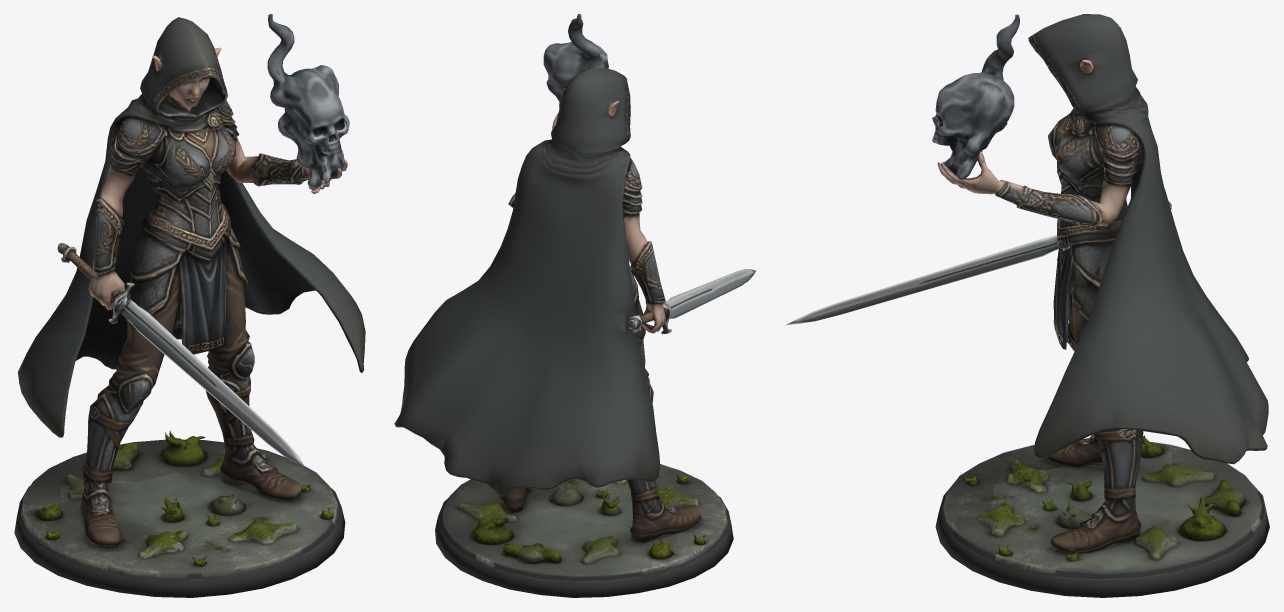
Rendered from nightblade_def_female.glb.
3 views of the same model, side by side, from view 1: azimuth 30°, elevation 25°; view 2: azimuth 150°, elevation 25°; view 3: azimuth 270°, elevation 25° (orthographic). The views are drawn at different scales.
Visible parts, largest first — view 1: tripo_node_a274e138-558d-4d36-b54a-f877e71d4d72; view 2: tripo_node_a274e138-558d-4d36-b54a-f877e71d4d72; view 3: tripo_node_a274e138-558d-4d36-b54a-f877e71d4d72.
Part boxes in pixels (left/top/right/bottom): tripo_node_a274e138-558d-4d36-b54a-f877e71d4d72: left=14, top=14, right=365, bottom=597; tripo_node_a274e138-558d-4d36-b54a-f877e71d4d72: left=394, top=14, right=756, bottom=597; tripo_node_a274e138-558d-4d36-b54a-f877e71d4d72: left=785, top=14, right=1269, bottom=597.
Bounding box in the file's own units: 0.627 × 0.998 × 0.8184.
Materials: 1 (1 with a texture image).
